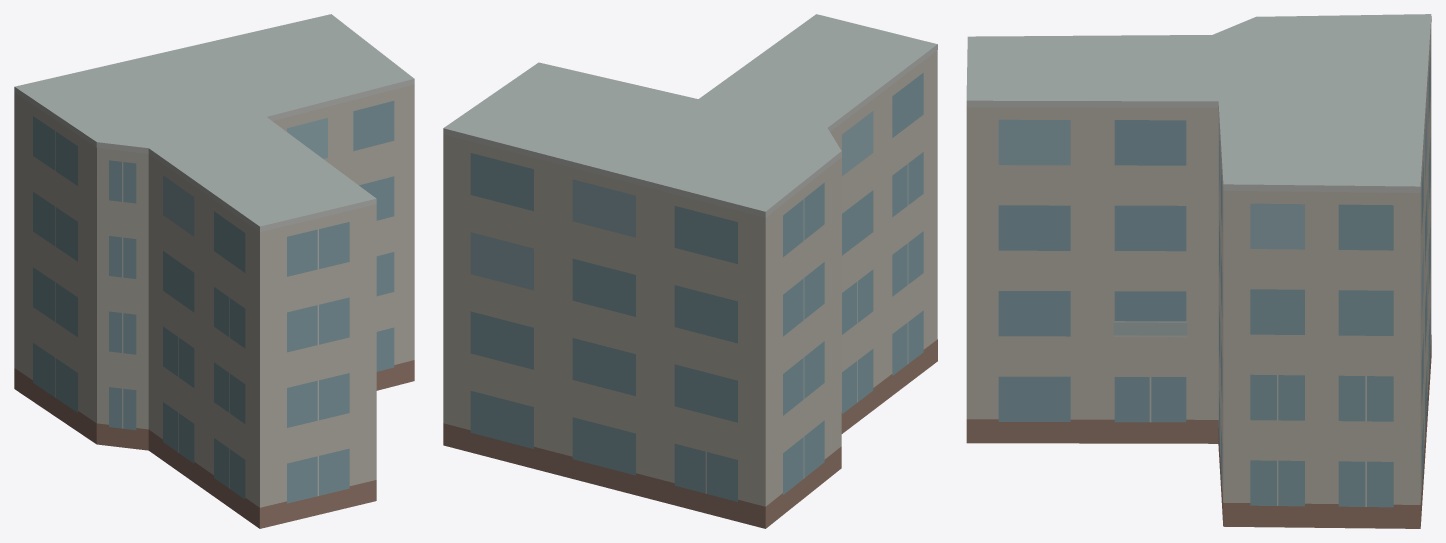
The model's file is survey-upis-32520496.glb.
The picture shows the model from 3 angles, left to right: view 1: azimuth 30°, elevation 25°; view 2: azimuth 150°, elevation 25°; view 3: azimuth 270°, elevation 25°; orthographic projection. The views are drawn at different scales.
Parts seen in each view (by area): view 1: survey-upis-32520496.tmp; view 2: survey-upis-32520496.tmp; view 3: survey-upis-32520496.tmp.
Part boxes in pixels (left/top/right/bottom): survey-upis-32520496.tmp: left=14, top=14, right=414, bottom=528; survey-upis-32520496.tmp: left=443, top=14, right=937, bottom=528; survey-upis-32520496.tmp: left=966, top=14, right=1431, bottom=528.
Size of the model in its own units: 14.06 by 13 by 16.01.
